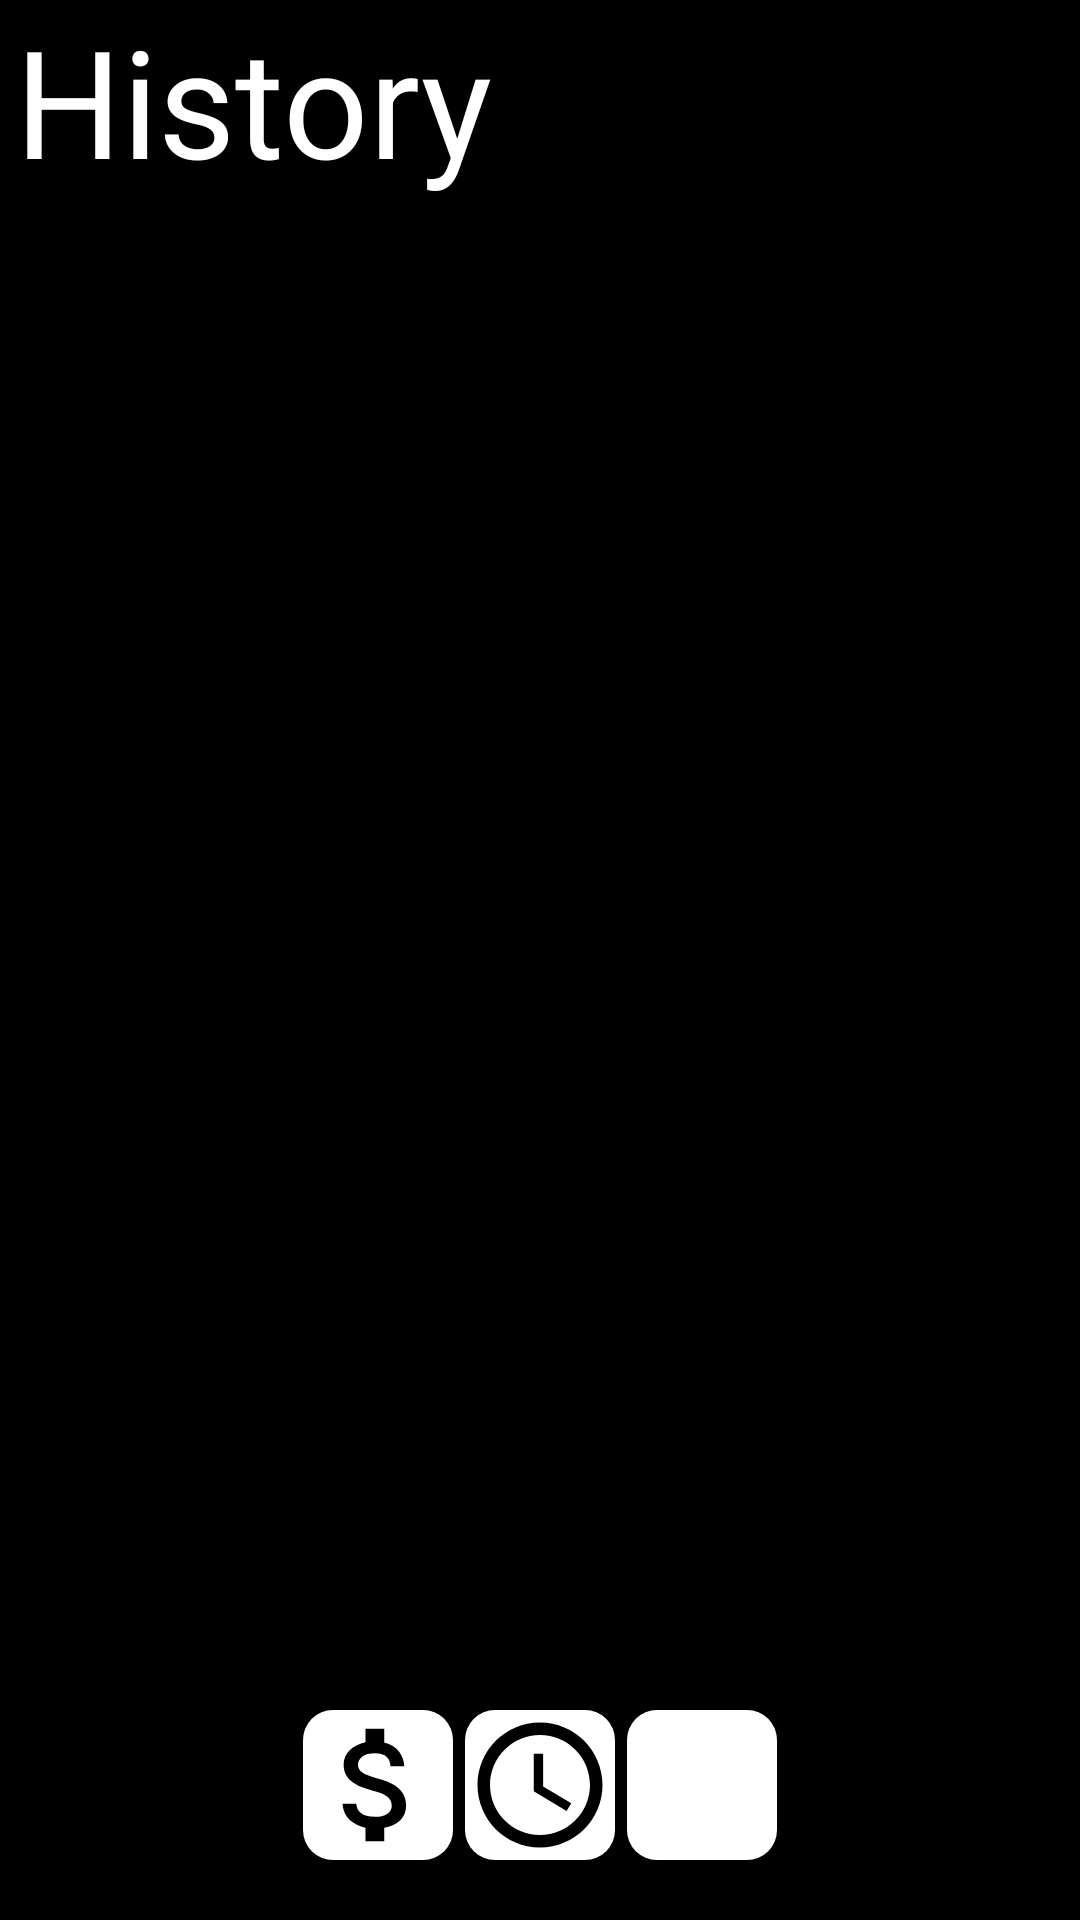

Named icons in this screenshot (1080 x 1920) and their bounding boxes, (x1, y1, x2, y2):
Budget: (303, 1710, 453, 1860)
History: (465, 1710, 615, 1860)
